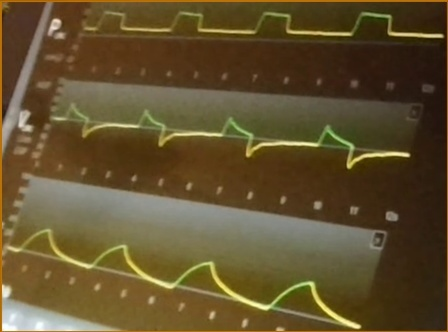Normal Flow: (52, 99, 408, 172)
Normal Volume: (9, 225, 360, 332)
